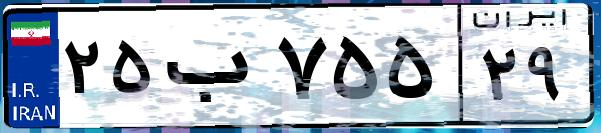2: (57, 26, 110, 100), (475, 38, 525, 113)
5: (385, 28, 445, 110), (330, 28, 385, 110), (110, 28, 158, 98)
7: (270, 28, 330, 110)
9: (525, 38, 570, 115)
ب: (158, 20, 270, 120)
